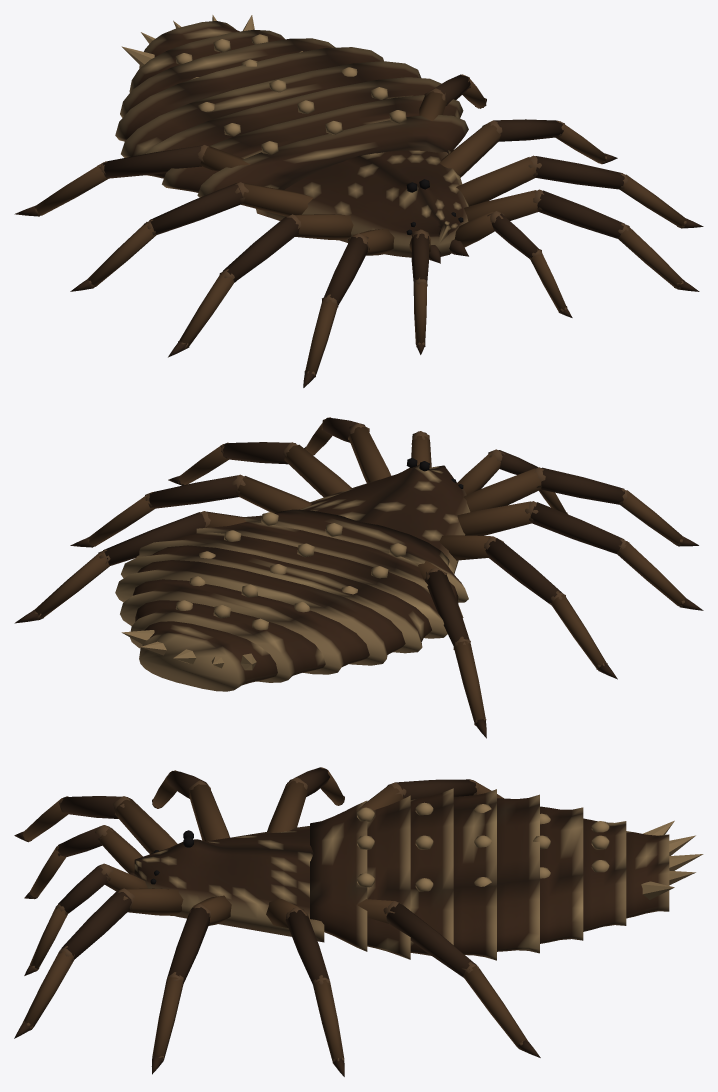
File: Eophrynus.fbx
The picture shows the model from 3 angles, top to bottom: view 1: azimuth 30°, elevation 25°; view 2: azimuth 150°, elevation 25°; view 3: azimuth 270°, elevation 25°; orthographic projection. The views are drawn at different scales.
Visible parts, largest first — view 1: Eophrynus; view 2: Eophrynus; view 3: Eophrynus.
Part boxes in pixels (x1,y1,x2,y2): Eophrynus: (14,15,703,387); Eophrynus: (14,417,703,738); Eophrynus: (14,767,703,1076).
Size of the model in its own units: 1.16 by 0.1993 by 1.2.
